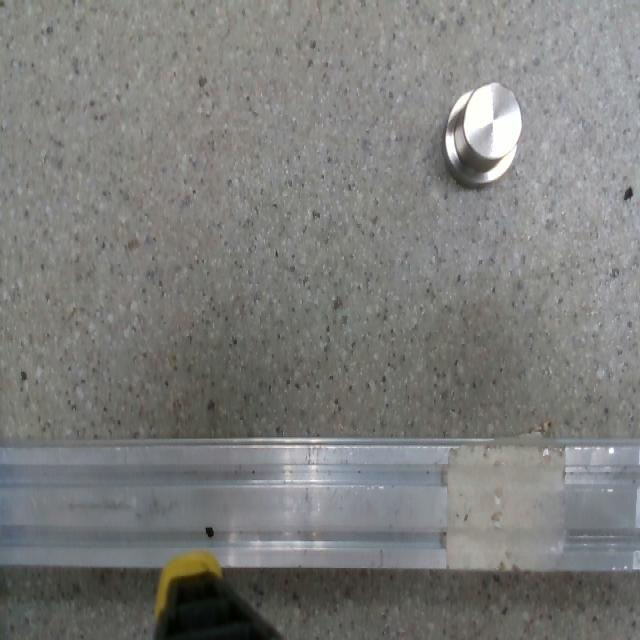sensor: (441, 80, 524, 189)
